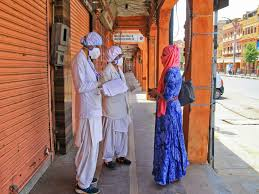mask: (157, 43, 179, 69), (84, 33, 102, 60), (105, 44, 124, 65)
